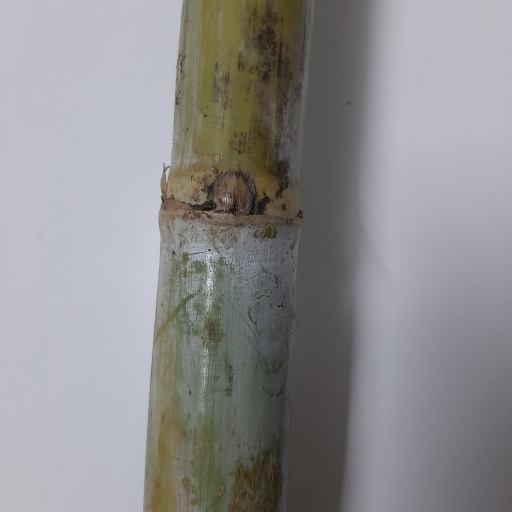Bud: (211, 168, 251, 215)
